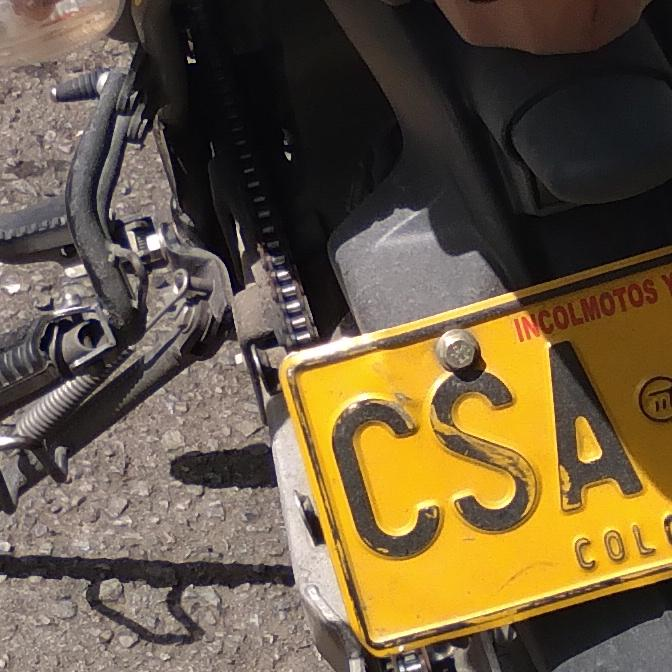plates: (276, 242, 672, 672)
